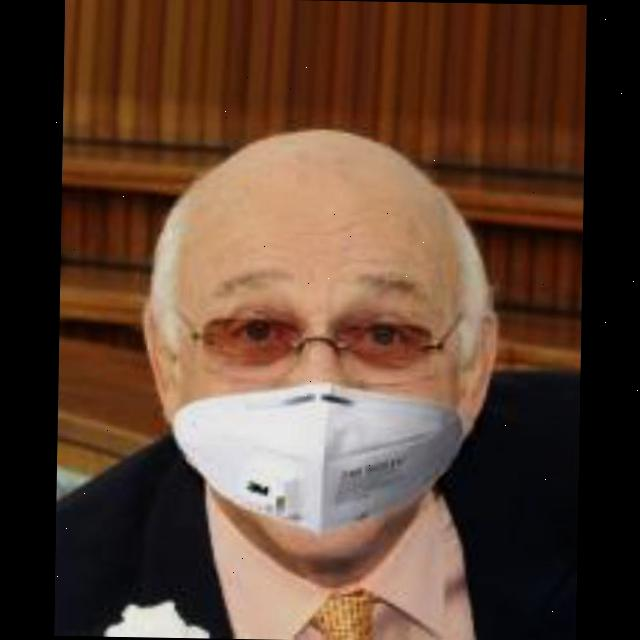suspicion: (152, 125, 510, 542)
